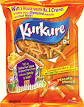kurkure: (15, 17, 71, 40)
plastic: (1, 3, 81, 103)
